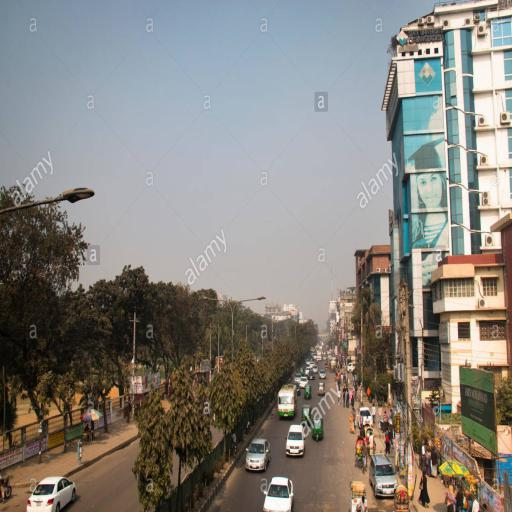bus: (278, 382, 299, 418)
car: (27, 476, 77, 512), (369, 453, 400, 498), (262, 477, 295, 512), (245, 437, 272, 473), (286, 423, 307, 457), (358, 407, 374, 430), (300, 378, 309, 389), (294, 383, 301, 395), (319, 369, 326, 379), (309, 370, 316, 380), (305, 367, 312, 376), (313, 366, 319, 374)
motorbike: (1, 469, 13, 504)
rickshaw: (355, 435, 369, 474), (394, 485, 411, 512), (365, 428, 377, 457), (363, 423, 372, 433)
suv: (295, 373, 302, 382)
three wheelers (CNG): (312, 418, 325, 443), (302, 405, 312, 425), (304, 386, 313, 400), (318, 383, 326, 397)
